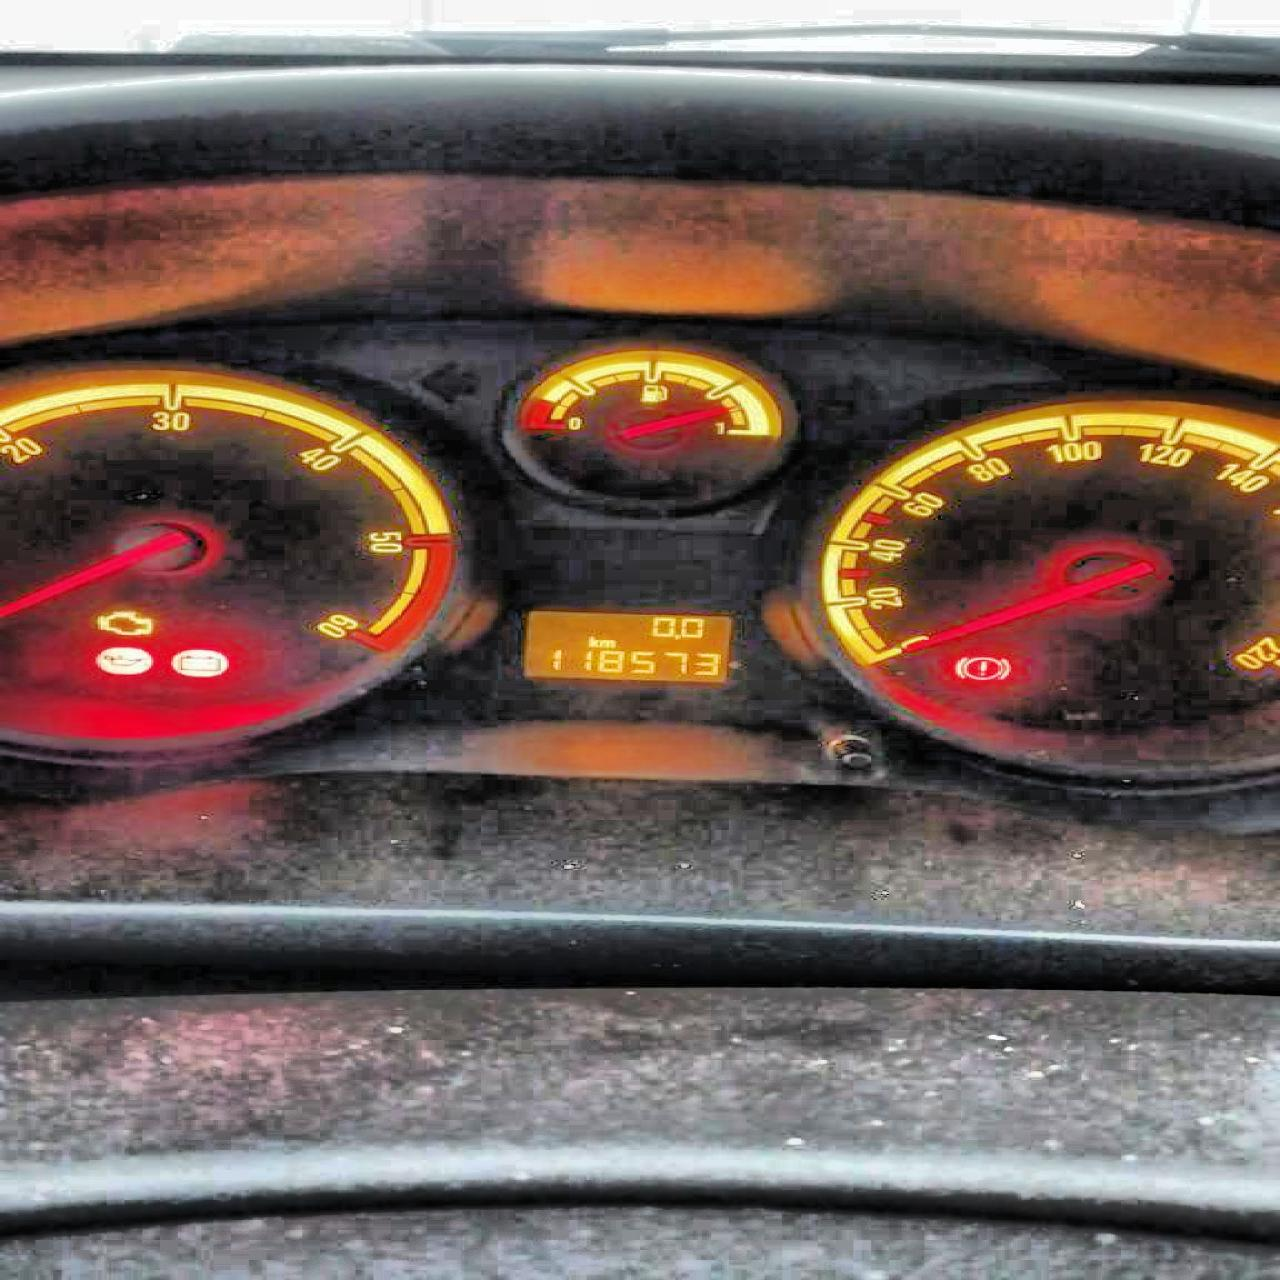-: (670, 633, 680, 639)
0: (678, 617, 702, 638), (648, 615, 673, 636)
1: (546, 648, 563, 670), (580, 647, 591, 672)
3: (689, 652, 720, 676)
5: (626, 648, 655, 674)
7: (660, 648, 687, 674)
8: (595, 648, 622, 673)
X: (584, 634, 598, 646), (598, 638, 615, 647)
odometer: (513, 605, 737, 685)
